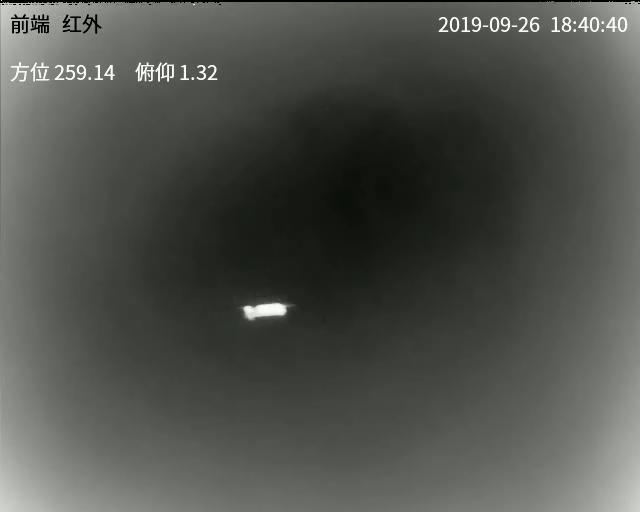uav: (235, 300, 294, 321)
